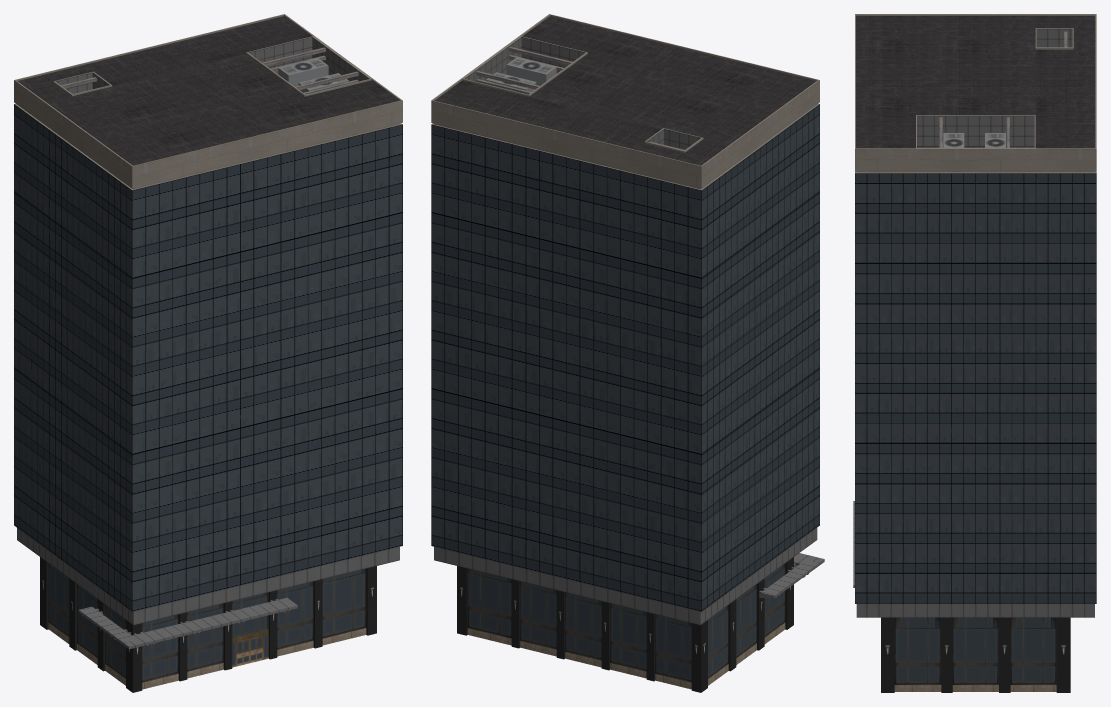
File: 386_wabasha_street_north.glb
The picture shows the model from 3 angles, left to right: view 1: azimuth 30°, elevation 25°; view 2: azimuth 150°, elevation 25°; view 3: azimuth 270°, elevation 25°; orthographic projection. The views are drawn at different scales.
Visible parts, largest first — view 1: Object_2; view 2: Object_2; view 3: Object_2.
Part boxes in pixels (box(x1,y1,x2,y2)): Object_2: box(14, 14, 402, 692); Object_2: box(431, 14, 824, 692); Object_2: box(853, 14, 1096, 692).
Size of the model in its own units: 4000 by 7500 by 3000.
Materials: 1 (1 with a texture image).
